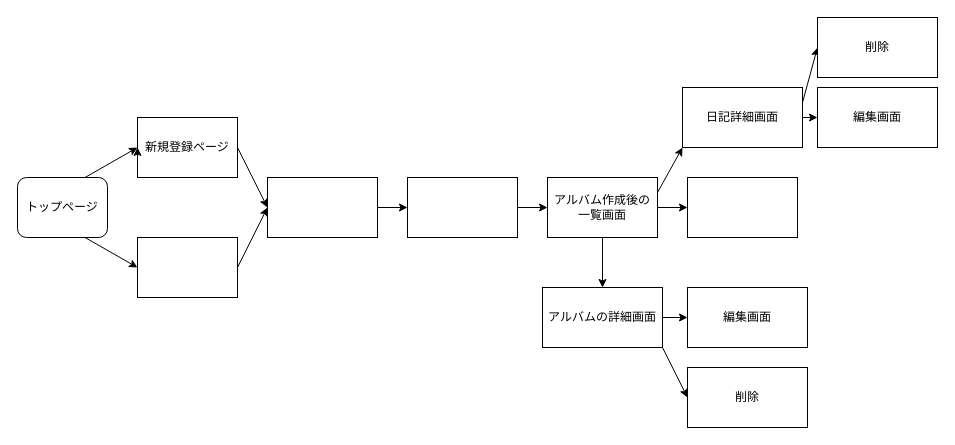
This 955x445 diagram has some shape labels left out. The centre of each missing label's shape, as x and y in pixels:
"アルバム作成機能" belongs at pixel 462 207.
"ログインページ" belongs at pixel 187 267.
"一覧画面" belongs at pixel 322 207.
"日記投稿画面" belongs at pixel 742 207.
